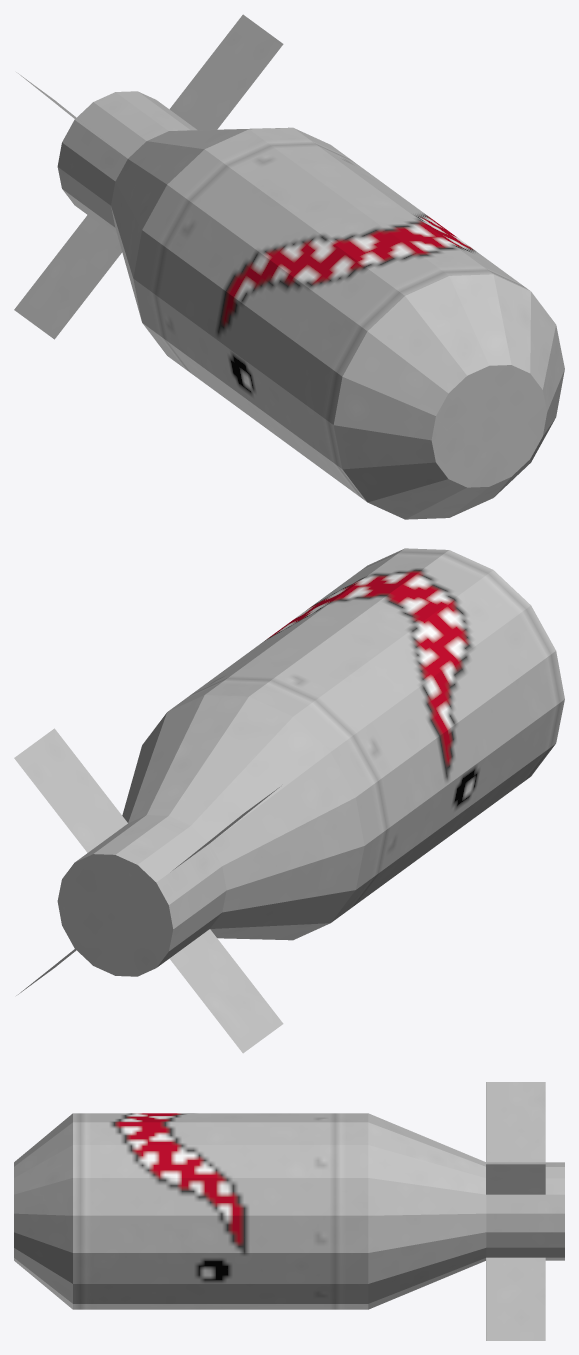
The model's file is bomb_multi.obj.
3 views of the same model, one above another, from view 1: azimuth 30°, elevation 25°; view 2: azimuth 150°, elevation 25°; view 3: azimuth 270°, elevation 25° (orthographic). The views are drawn at different scales.
Visible parts, largest first — view 1: Cylinder; view 2: Cylinder; view 3: Cylinder.
Boxes of the visible parts, x1,y1,x2,y2 form: Cylinder: [14, 14, 564, 519]; Cylinder: [14, 548, 564, 1053]; Cylinder: [14, 1082, 564, 1340].
Bounding box in the file's own units: 0.5 × 0.5 × 1.4.
